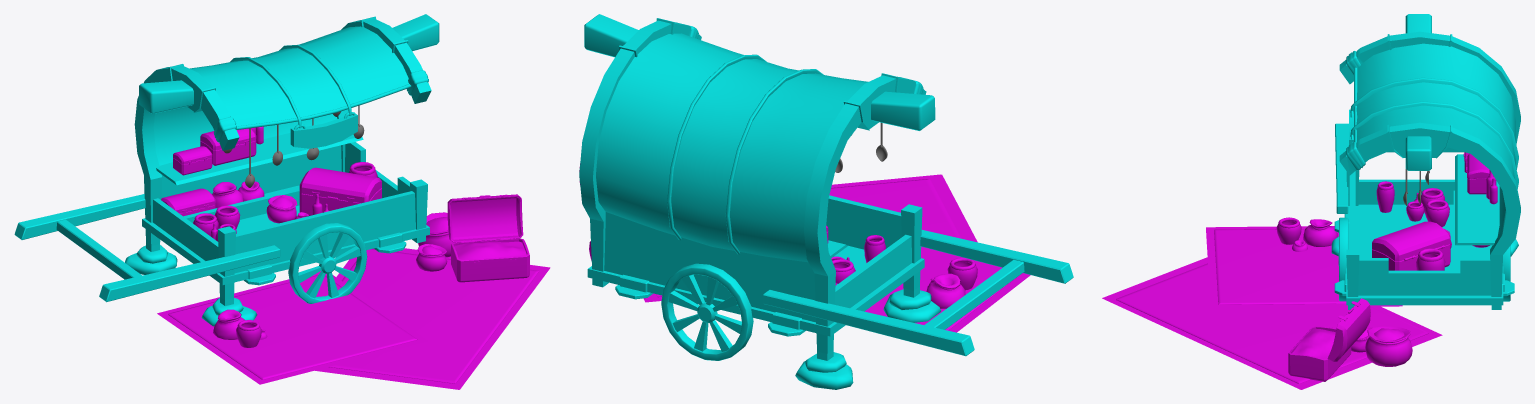
The model's file is Model_Shop_New.fbx.
3 views of the same model, side by side, from view 1: azimuth 30°, elevation 25°; view 2: azimuth 150°, elevation 25°; view 3: azimuth 270°, elevation 25° (orthographic). The views are drawn at different scales.
Visible parts, largest first — view 1: Model_Shop; view 2: Model_Shop; view 3: Model_Shop.
Part boxes in pixels (x1,y1,x2,y2): Model_Shop: (14,14,550,389); Model_Shop: (579,14,1073,389); Model_Shop: (1102,14,1520,389).
Size of the model in its own units: 6.67 by 3.35 by 5.83.
